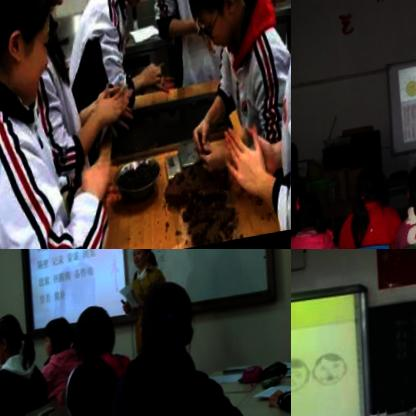head: (0, 0, 66, 119), (132, 278, 203, 362), (179, 0, 254, 52), (73, 300, 123, 365), (291, 188, 330, 238), (41, 314, 80, 362), (0, 309, 31, 366), (355, 162, 392, 209), (127, 249, 157, 271), (405, 161, 416, 212)
